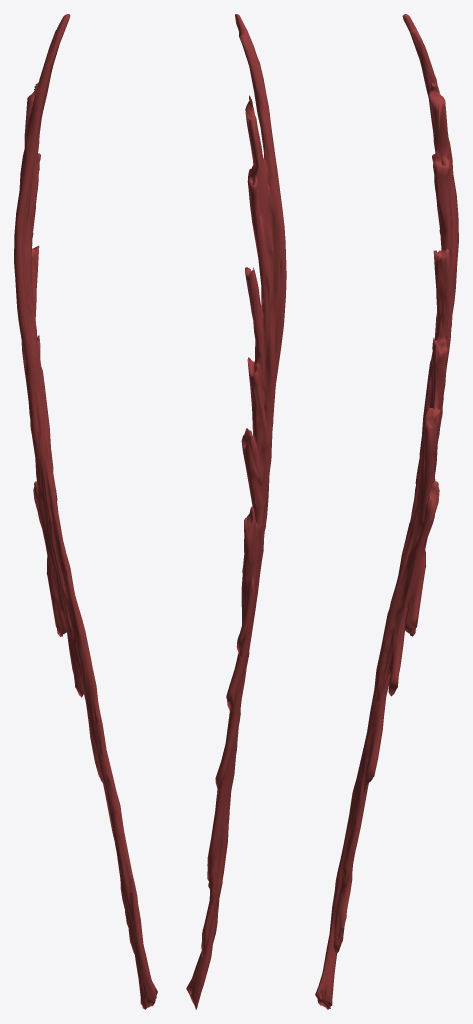
File: spinalis-thoracis-muscle-r.glb
3 views of the same model, side by side, from view 1: azimuth 90°, elevation 25°; view 2: azimuth 210°, elevation 25°; view 3: azimuth 270°, elevation 25° (orthographic). The views are drawn at different scales.
Parts seen in each view (by area): view 1: Spinalis thoracis muscle.r; view 2: Spinalis thoracis muscle.r; view 3: Spinalis thoracis muscle.r.
Part boxes in pixels (x1,y1,x2,y2): Spinalis thoracis muscle.r: [14, 14, 157, 1009]; Spinalis thoracis muscle.r: [186, 14, 286, 1009]; Spinalis thoracis muscle.r: [315, 14, 458, 1009].
Bounding box in the file's own units: 0.0127 × 0.3775 × 0.0494.
